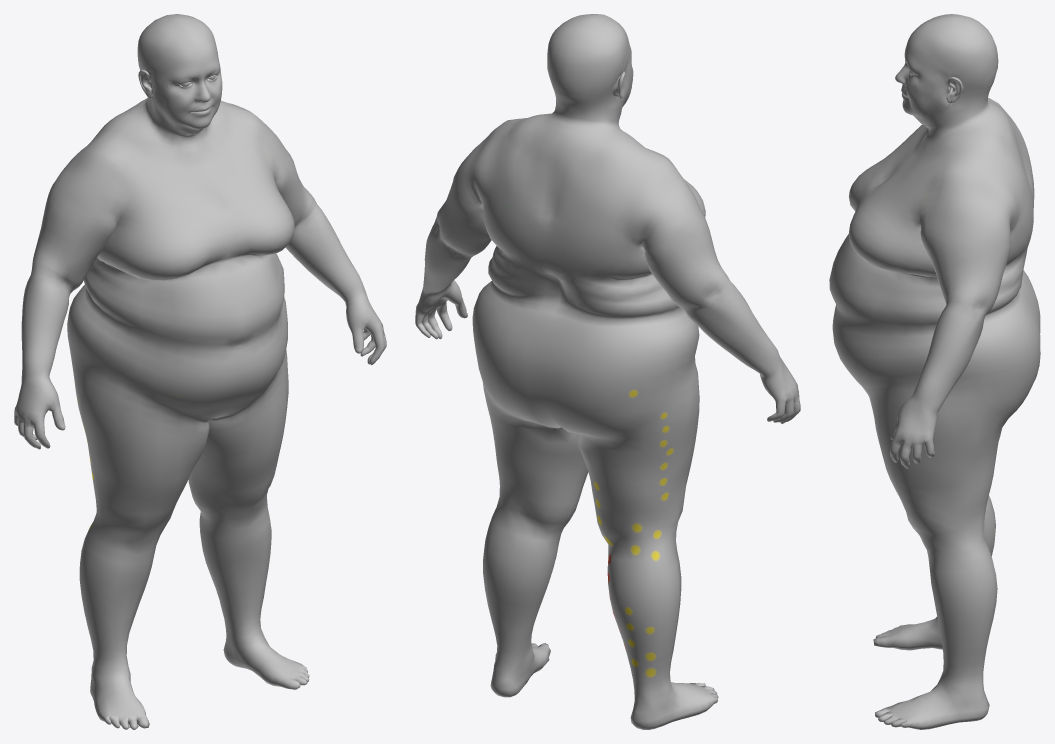
The model's file is 1135032-hipflex-red+yellow.gltf.
The picture shows the model from 3 angles, left to right: view 1: azimuth 30°, elevation 25°; view 2: azimuth 150°, elevation 25°; view 3: azimuth 270°, elevation 25°; orthographic projection. The views are drawn at different scales.
Visible parts, largest first — view 1: Female 63in 275lbs; view 2: Female 63in 275lbs; view 3: Female 63in 275lbs.
Part boxes in pixels (x1,y1,x2,y2): Female 63in 275lbs: (14,14,386,729); Female 63in 275lbs: (415,14,800,729); Female 63in 275lbs: (829,14,1040,729).
Size of the model in its own units: 2.74 by 4.81 by 1.38.
1 material, 1 textured.
